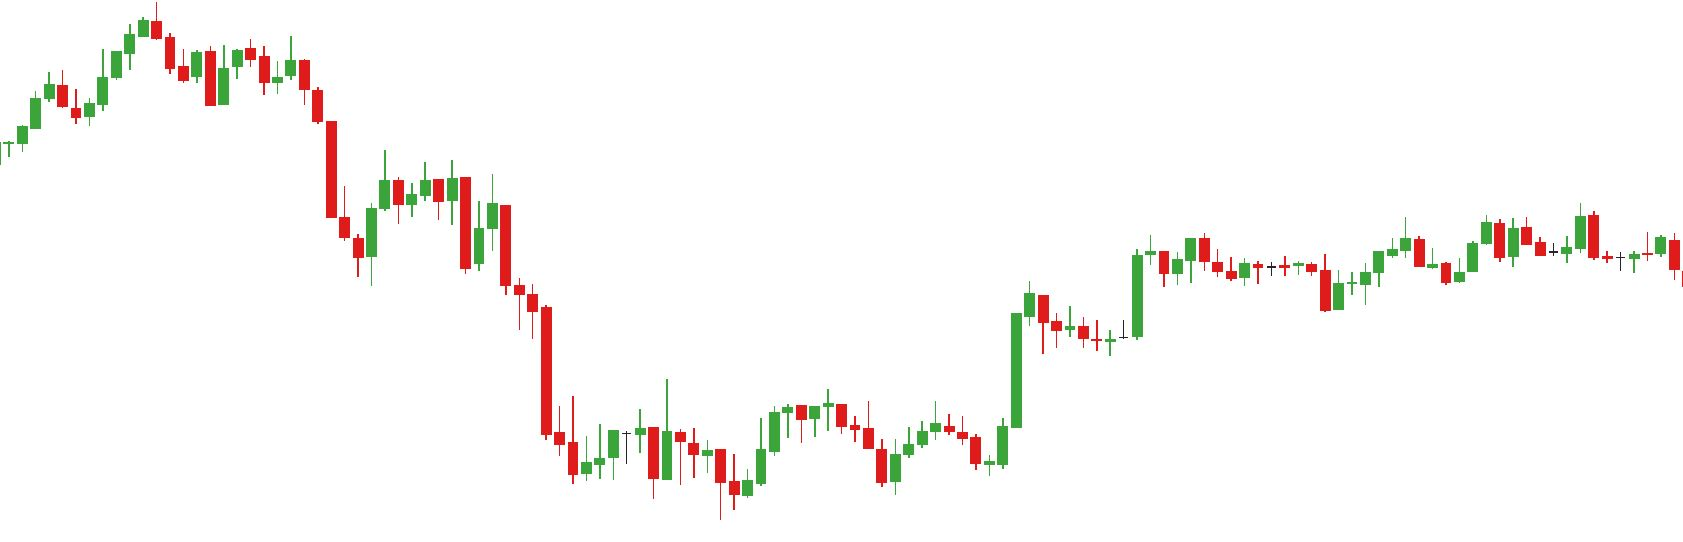buy: (644, 422, 753, 521)
